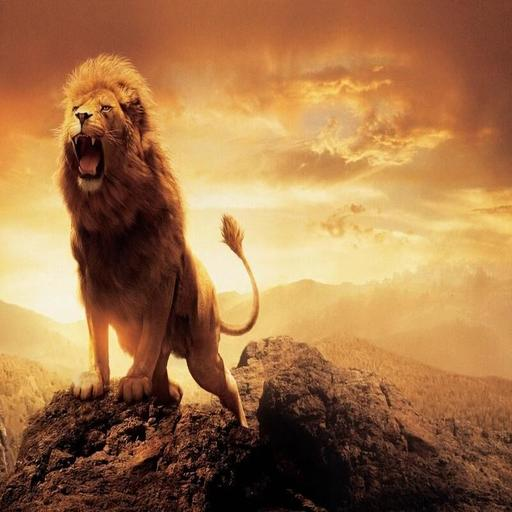Lion: (45, 47, 265, 433)
